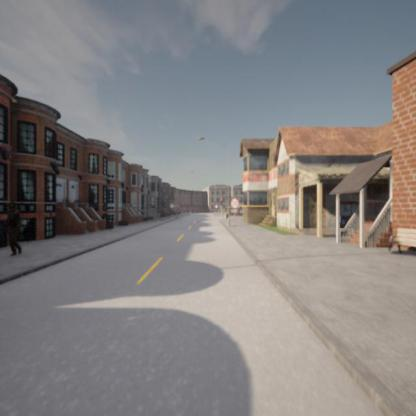person: (4, 204, 22, 257)
traffic_sign_30: (231, 197, 239, 209)
